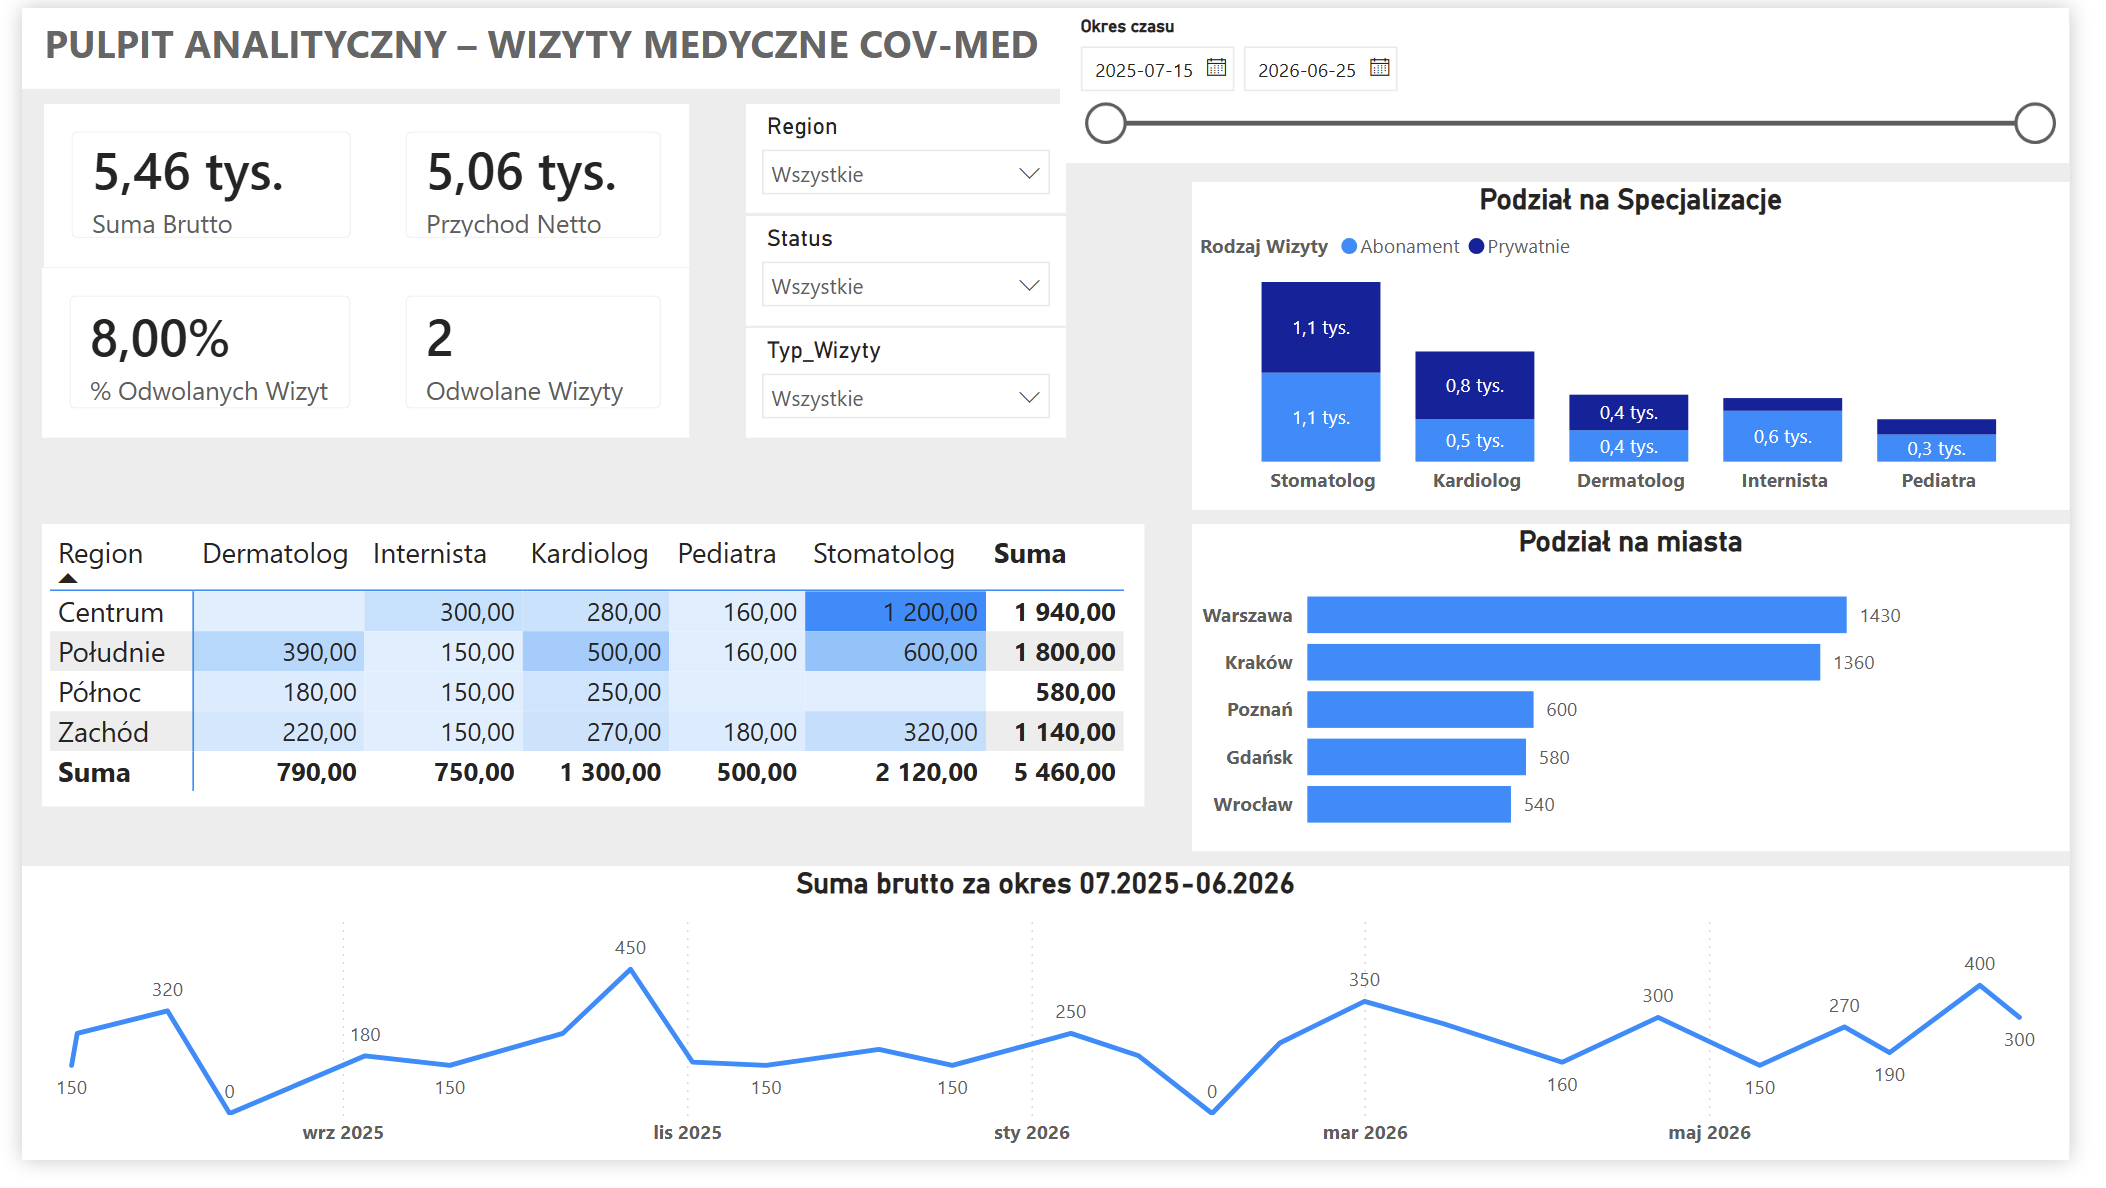

The page's visual inventory and layout, read from the dashboard file:
{"tool":"powerbi","page":{"name":"Wizyty Medyczne","canvas":[1280,720],"ordinal":0},"visuals":[{"type":"cardVisual","fields":{"Data":["fact_Wizyty.Suma Brutto"]},"box":[13.2,60.3,209.2,101.9],"z":0},{"type":"cardVisual","fields":{"Data":["fact_Wizyty.Przychod Netto"]},"box":[222.4,60.3,194.3,101.9],"z":1000},{"type":"lineChart","title":"Suma brutto za okres 07.2025-06.2026","fields":{"Category":["dim_Kalendarz.Date.Odmiana.Hierarchia dat.Rok","dim_Kalendarz.Date.Odmiana.Hierarchia dat.Kwartał","dim_Kalendarz.Date.Odmiana.Hierarchia dat.Miesiąc","dim_Kalendarz.Date.Odmiana.Hierarchia dat.Dzień"],"Y":["fact_Wizyty.Suma Brutto"]},"box":[0,536.7,1279.4,184.7],"z":2000},{"type":"columnChart","title":"Podział na Specjalizacje","fields":{"Category":["fact_Wizyty.Specjalizacja"],"Y":["fact_Wizyty.Suma Brutto"],"Series":["fact_Wizyty.Typ_Wizyty"]},"box":[730.7,108.4,548.7,204.8],"z":3000},{"type":"clusteredBarChart","title":"Podział na miasta","fields":{"Category":["dim_Kliniki.Klinika_Miasto"],"Y":["fact_Wizyty.Suma Brutto"]},"box":[731.4,322.9,548.6,204.3],"z":4000},{"type":"pivotTable","fields":{"Rows":["dim_Kliniki.Region"],"Values":["fact_Wizyty.Suma Brutto"],"Columns":["fact_Wizyty.Specjalizacja"]},"box":[12,322.5,689.2,176.7],"z":5000},{"type":"slicer","fields":{"Values":["fact_Wizyty.Status"]},"box":[452.9,130,200,68.6],"z":6000},{"type":"slicer","fields":{"Values":["dim_Kalendarz.Date"]},"box":[649.4,0,630.3,96.5],"z":7000},{"type":"slicer","fields":{"Values":["dim_Kliniki.Region"]},"box":[452.3,59.9,200,68],"z":8000},{"type":"cardVisual","fields":{"Data":["fact_Wizyty.Liczba Odwolanych Wizyt"]},"box":[222.4,162.1,194.3,106],"z":9000},{"type":"cardVisual","fields":{"Data":["fact_Wizyty.% Odwolanych Wizyt"]},"box":[11.9,162.1,210.6,106],"z":10000},{"type":"textbox","box":[0,0,649.4,50.3],"z":11000},{"type":"slicer","fields":{"Values":["fact_Wizyty.Typ_Wizyty"]},"box":[452.9,200,200,68.6],"z":11001}]}

Visuals, with their boxes in screenshot pixels (x1, y1, x2, y2), scaled from the page's 1280x720 canvas onto the 2106x1188 screenshot:
cardVisual - fact_Wizyty.Suma Brutto: bbox=[22, 99, 366, 268]
cardVisual - fact_Wizyty.Przychod Netto: bbox=[366, 99, 686, 268]
"Suma brutto za okres 07.2025-06.2026" lineChart: bbox=[0, 886, 2105, 1187]
"Podział na Specjalizacje" columnChart: bbox=[1202, 179, 2105, 517]
"Podział na miasta" clusteredBarChart: bbox=[1203, 533, 2105, 870]
pivotTable - dim_Kliniki.Region x fact_Wizyty.Suma Brutto: bbox=[20, 532, 1154, 824]
slicer - fact_Wizyty.Status: bbox=[745, 214, 1074, 328]
slicer - dim_Kalendarz.Date: bbox=[1068, 0, 2105, 159]
slicer - dim_Kliniki.Region: bbox=[744, 99, 1073, 211]
cardVisual - fact_Wizyty.Liczba Odwolanych Wizyt: bbox=[366, 267, 686, 442]
cardVisual - fact_Wizyty.% Odwolanych Wizyt: bbox=[20, 267, 366, 442]
textbox: bbox=[0, 0, 1068, 83]
slicer - fact_Wizyty.Typ_Wizyty: bbox=[745, 330, 1074, 443]
